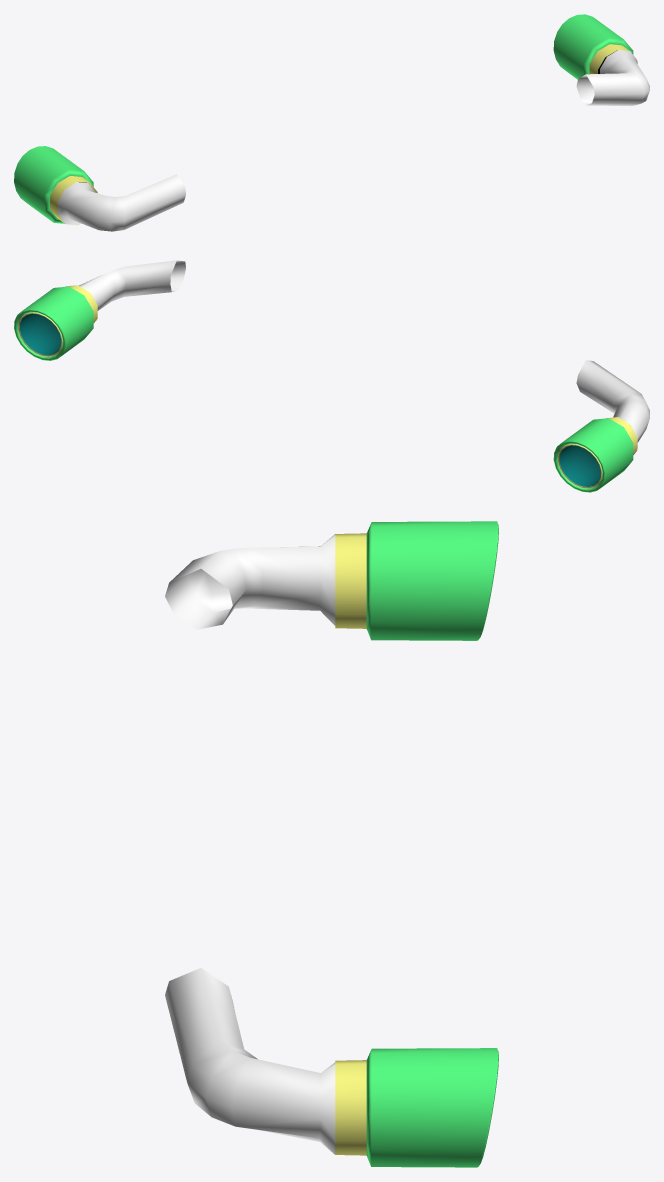
The model's file is Car_Mini_CountrymanJCW_2017_Exhausts_SetFD_AltB.fbx.
The picture shows the model from 3 angles, top to bottom: view 1: azimuth 30°, elevation 25°; view 2: azimuth 150°, elevation 25°; view 3: azimuth 270°, elevation 25°; orthographic projection. The views are drawn at different scales.
Parts seen in each view (by area): view 1: Exhausts 6; view 2: Exhausts 6; view 3: Exhausts 6.
Boxes of the visible parts, box(x1,y1,x2,y2) form: Exhausts 6: box(14, 14, 649, 231); Exhausts 6: box(14, 260, 649, 492); Exhausts 6: box(165, 521, 498, 1167).
Bounding box in the file's own units: 1.16 × 0.1227 × 0.2839.
